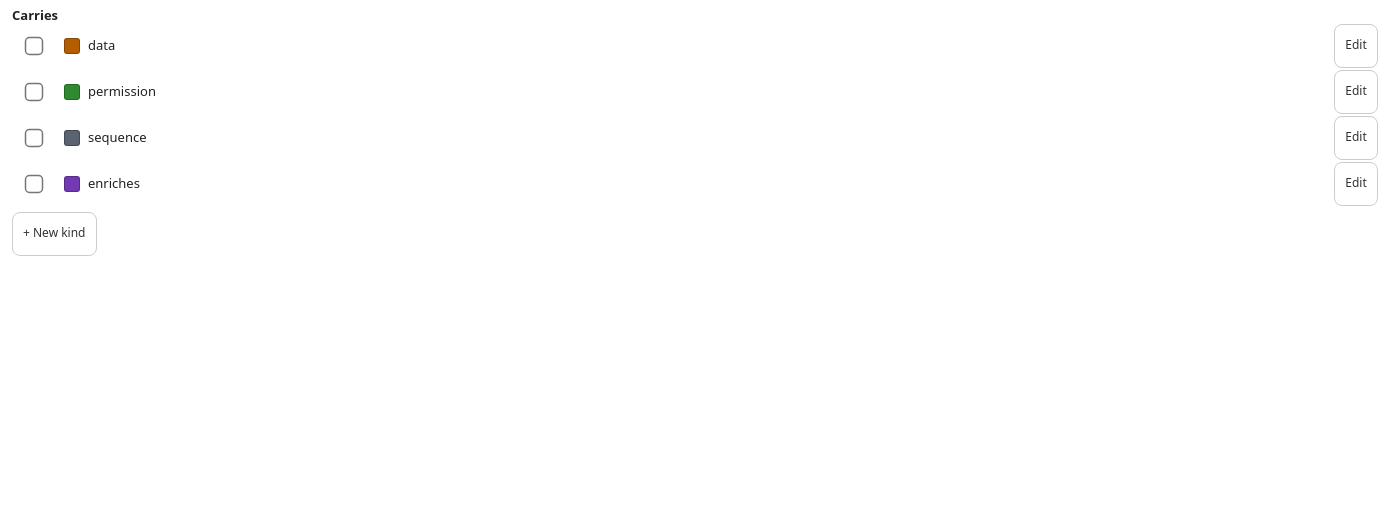
renaming a kind › shows a non-solid kind’s OWN line style when the form opens
The width and height of the screenshot is (1390, 509).
Click the button with test id "kind-edit-enriches" at (1356, 184), box left=1334, top=162, right=1378, bottom=206
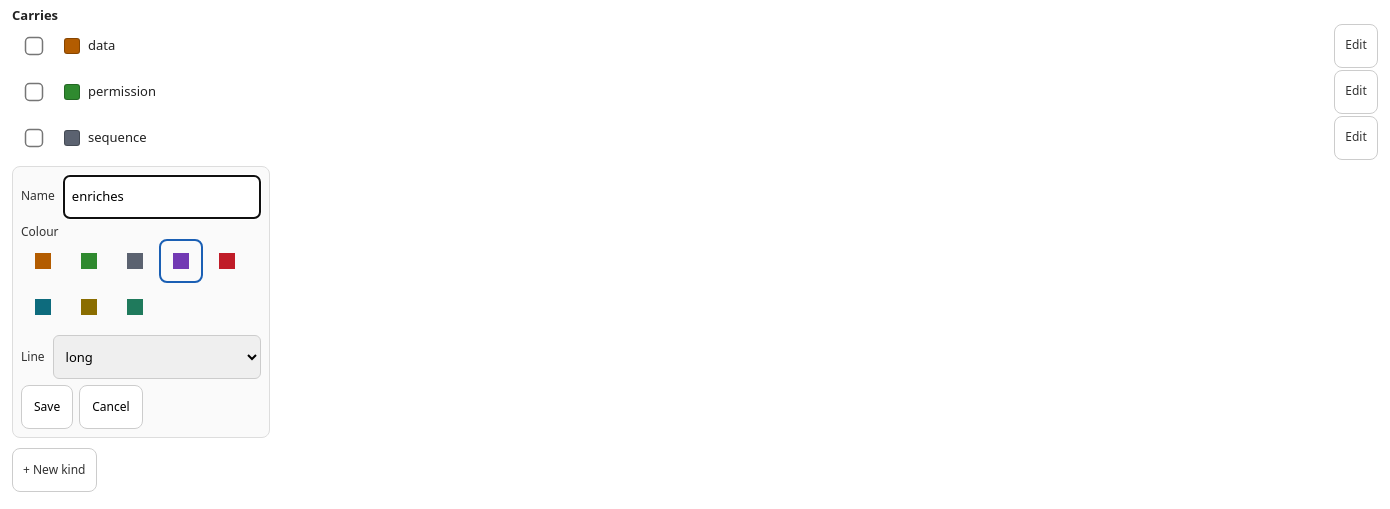
Check: the dropdown with test id "kind-form-dash" shows "long", box left=53, top=335, right=261, bottom=379
